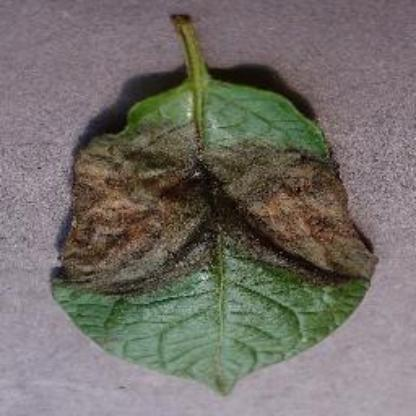Late-Blight: (40, 9, 384, 397)
